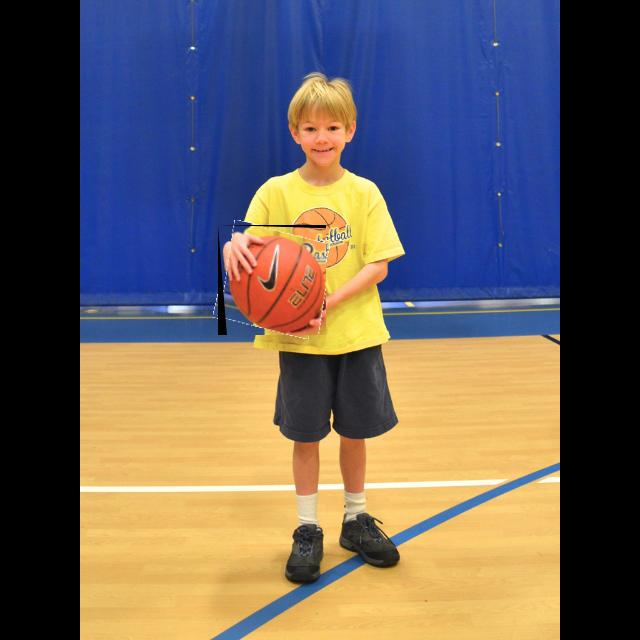Football: (218, 225, 326, 335)
